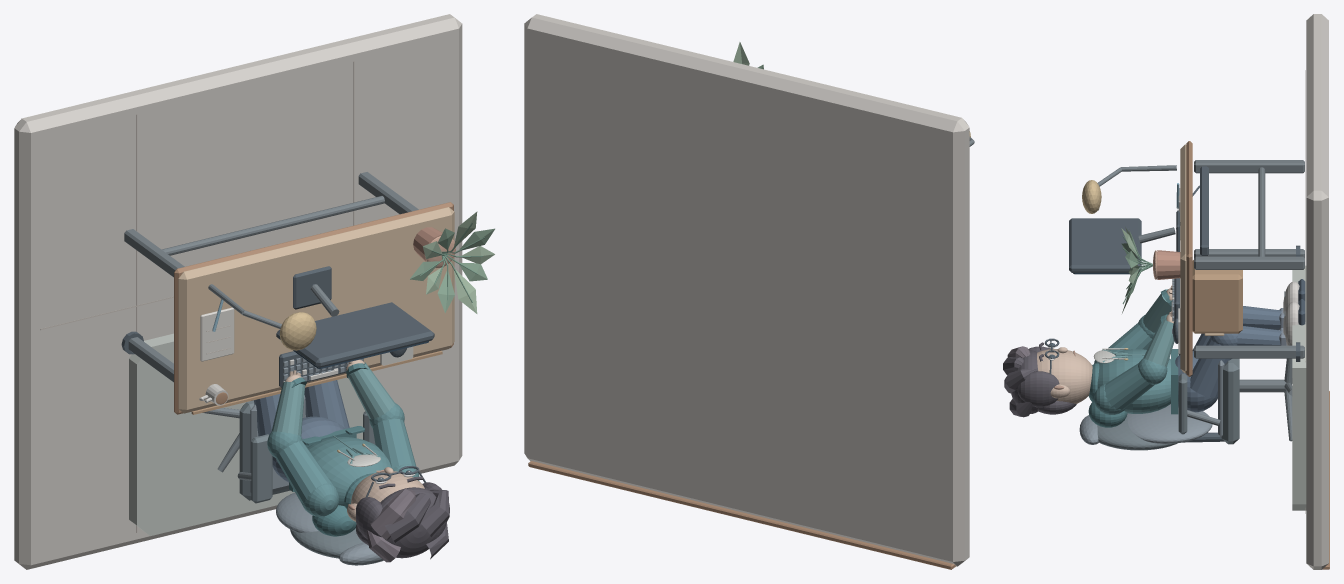
Rendered from 07_studio_full.glb.
3 views of the same model, side by side, from view 1: azimuth 30°, elevation 25°; view 2: azimuth 150°, elevation 25°; view 3: azimuth 270°, elevation 25° (orthographic). The views are drawn at different scales.
Visible parts, largest first — view 1: 0000__STUDIO_floor, 0007__desk_solid_oak_top, 0005__mat_under_chair, 0021__monitor_27_bezel, 0154__hoodie_main_torso, 0008__desk_beveled_oak_rim, 0016__crossbar, 0221__sleeve_upper, 0096__notebook, 0230__sleeve_upper, 0210__jeans_thigh, 0232__sleeve_forearm (+25 smaller); view 2: 0000__STUDIO_floor, 0001__FLOOR_front_edge; view 3: 0000__STUDIO_floor, 0021__monitor_27_bezel, 0018__drawer_shell, 0005__mat_under_chair, 0146__lumbar_support, 0154__hoodie_main_torso, 0171__face_head, 0008__desk_beveled_oak_rim, 0007__desk_solid_oak_top, 0013__powder_coated_leg, 0012__powder_coated_leg, 0011__powder_coated_leg (+26 smaller).
Part boxes in pixels (box(x1,y1,x2,y2)): 0000__STUDIO_floor: box(14, 14, 462, 569); 0007__desk_solid_oak_top: box(178, 207, 454, 413); 0005__mat_under_chair: box(129, 333, 365, 535); 0021__monitor_27_bezel: box(276, 302, 434, 367); 0154__hoodie_main_torso: box(307, 437, 391, 506); 0008__desk_beveled_oak_rim: box(174, 202, 453, 414); 0016__crossbar: box(162, 196, 384, 255); 0221__sleeve_upper: box(275, 440, 331, 505); 0096__notebook: box(200, 307, 234, 361); 0230__sleeve_upper: box(373, 418, 416, 468); 0210__jeans_thigh: box(304, 380, 349, 428); 0232__sleeve_forearm: box(348, 362, 394, 419); 0000__STUDIO_floor: box(524, 14, 969, 566); 0001__FLOOR_front_edge: box(528, 461, 955, 569); 0000__STUDIO_floor: box(1306, 14, 1328, 569); 0021__monitor_27_bezel: box(1069, 218, 1141, 272); 0018__drawer_shell: box(1192, 260, 1242, 333); 0005__mat_under_chair: box(1292, 265, 1306, 510); 0146__lumbar_support: box(1127, 404, 1212, 443); 0154__hoodie_main_torso: box(1097, 349, 1170, 413); 0171__face_head: box(1037, 349, 1092, 403); 0008__desk_beveled_oak_rim: box(1186, 141, 1192, 376); 0007__desk_solid_oak_top: box(1180, 144, 1186, 373); 0013__powder_coated_leg: box(1194, 256, 1304, 269); 0012__powder_coated_leg: box(1194, 345, 1304, 358); 0011__powder_coated_leg: box(1194, 160, 1304, 173).
Bounding box in the file's own units: 2.65 × 2.56 × 2.
